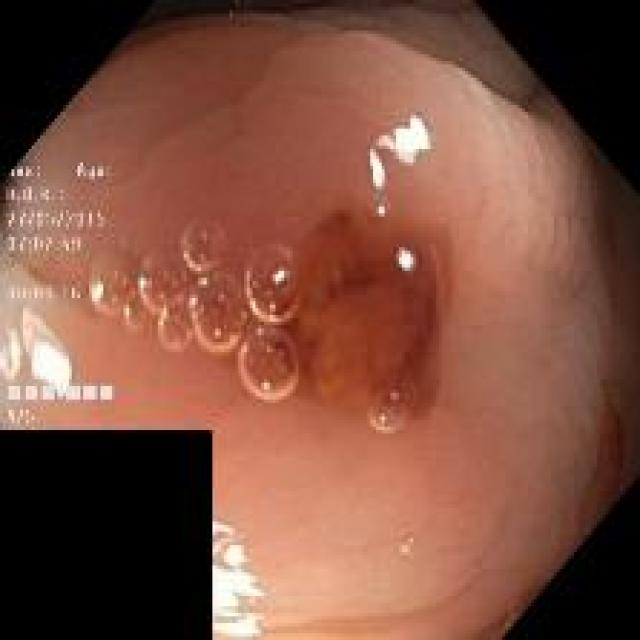Polyps: (301, 212, 438, 407)
